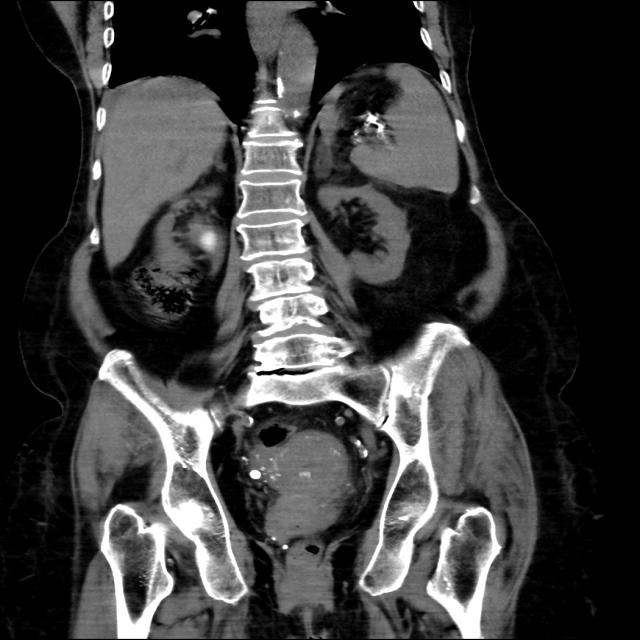kidneystone: (196, 225, 224, 254)
